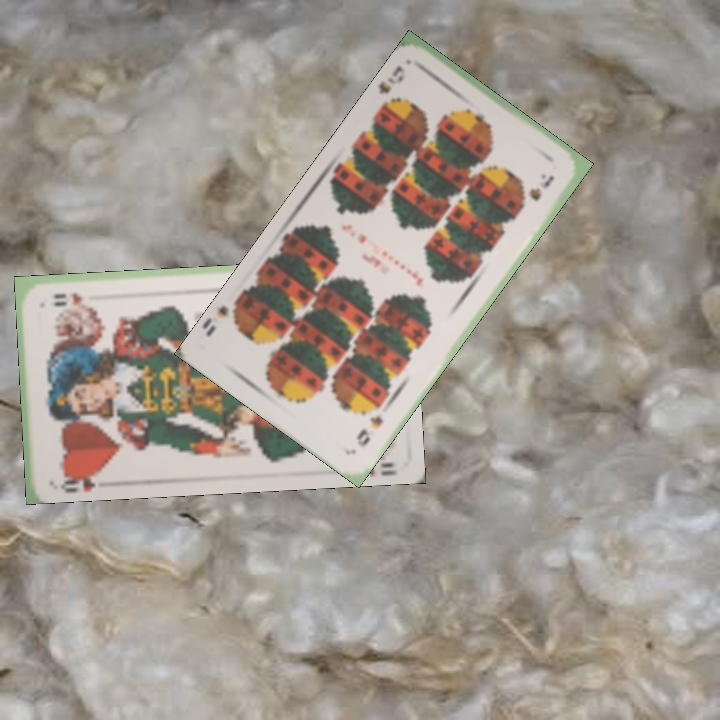HO: (56, 465, 105, 494)
S9: (375, 61, 407, 113), (352, 411, 386, 450)
